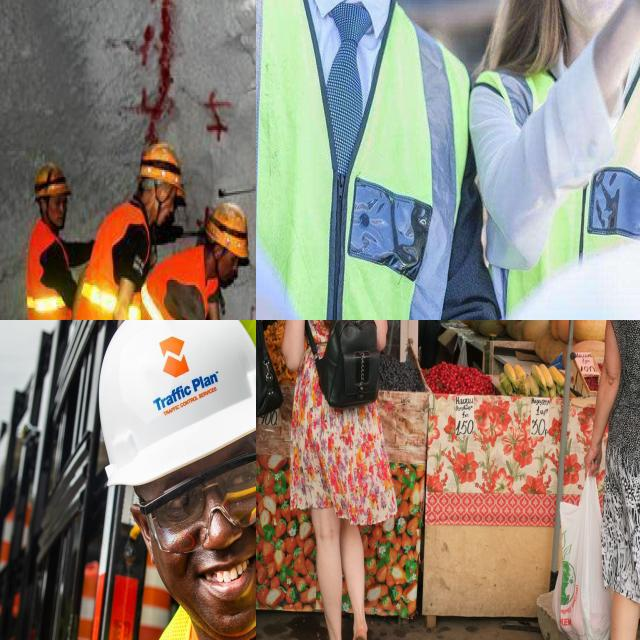Barefoots: (345, 630, 367, 640)
face_nomask: (135, 446, 256, 624), (211, 238, 242, 291), (145, 180, 178, 228), (39, 190, 70, 230)
glasses: (133, 443, 256, 549)
head_helmet: (91, 320, 256, 478), (206, 203, 250, 252), (135, 144, 186, 182), (33, 162, 73, 196)
person: (256, 0, 472, 320), (76, 320, 256, 640), (475, 0, 640, 320), (67, 142, 187, 320), (144, 201, 247, 320), (24, 157, 81, 320)
vest: (256, 0, 451, 320), (483, 71, 640, 320), (91, 514, 256, 640), (78, 203, 143, 320), (138, 255, 214, 320), (26, 229, 69, 320)
